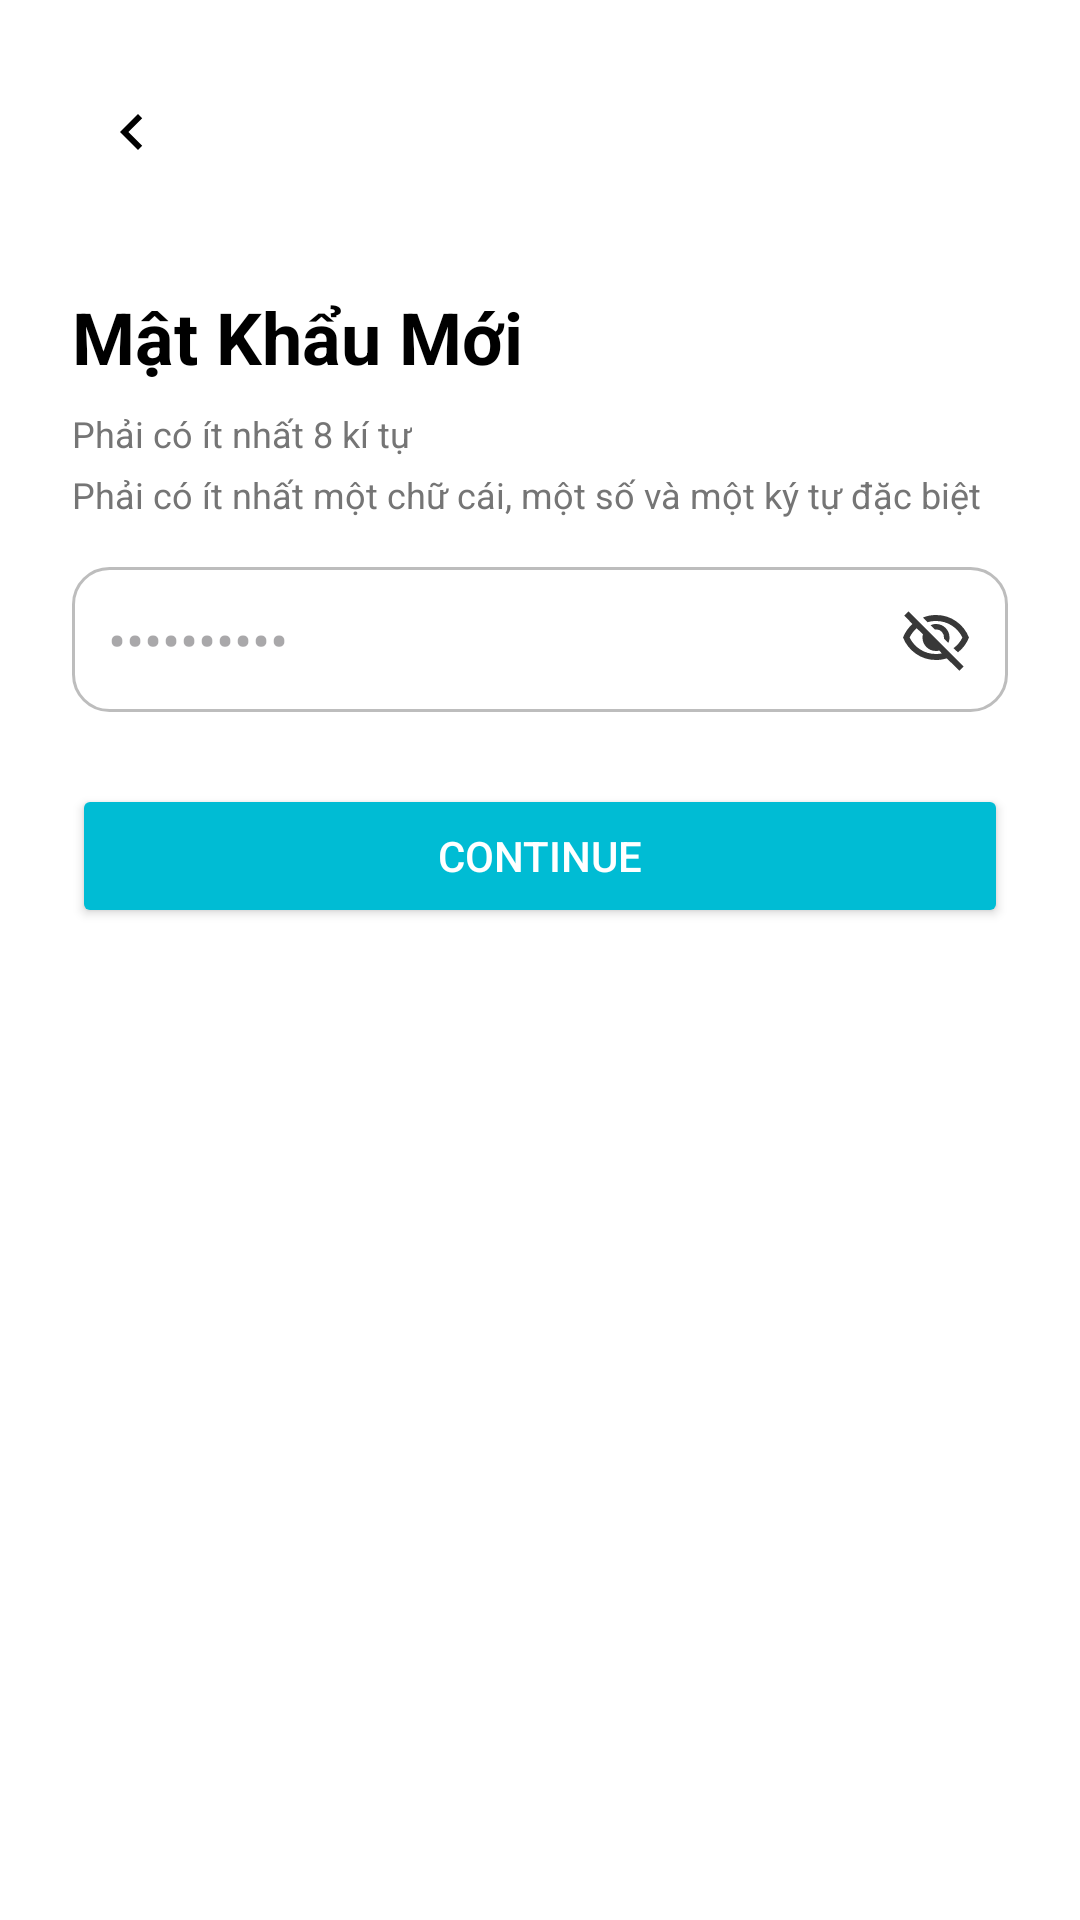

Screen size 1080 x 1920. Icon name, then its center in pixels as (x=x, y=y):
arrow left: (x=131, y=132)
